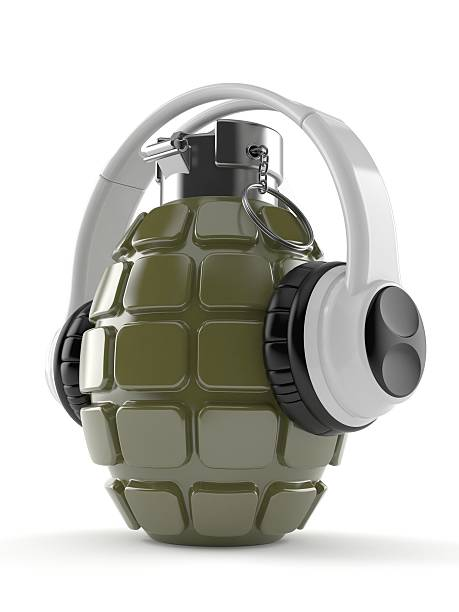e1: (79, 110, 346, 548)
